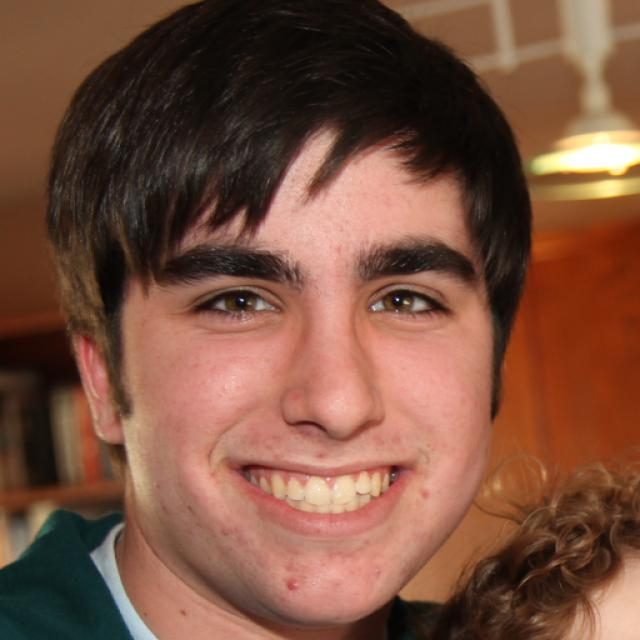Acne: (276, 563, 315, 602)
